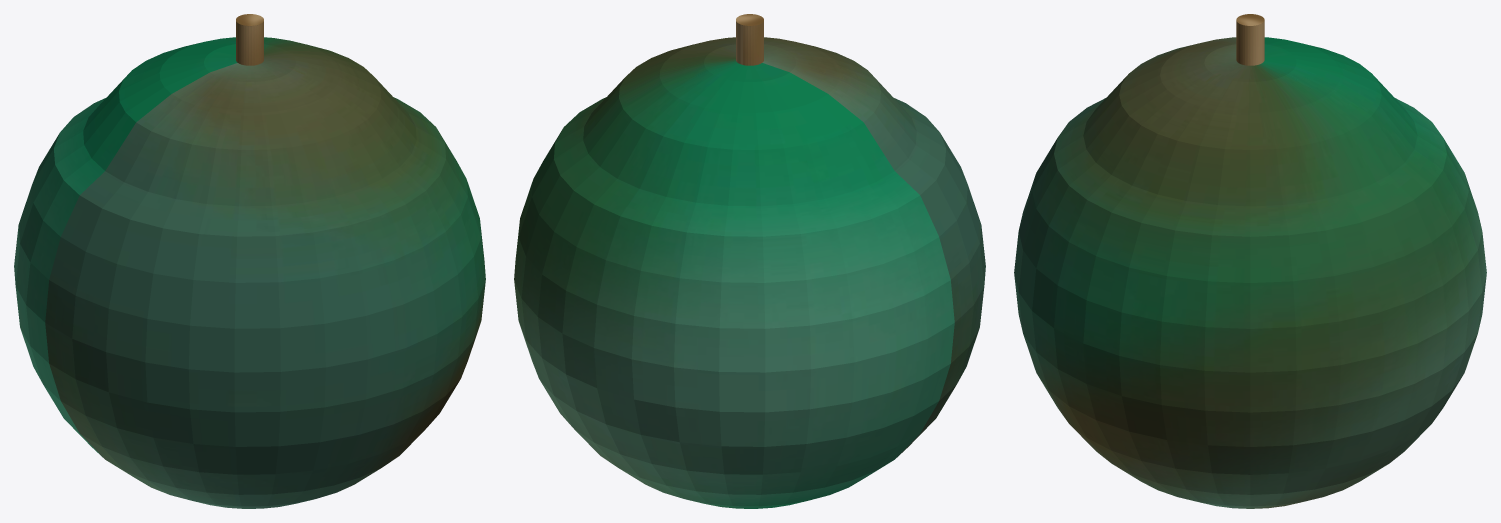
The model's file is tiny cocona.fbx.
3 renders of one model, left to right at view 1: azimuth 30°, elevation 25°; view 2: azimuth 150°, elevation 25°; view 3: azimuth 270°, elevation 25°, orthographic.
Visible parts, largest first — view 1: 球体, 柱体; view 2: 球体, 柱体; view 3: 球体, 柱体.
Boxes of the visible parts, x1=… form: 球体: x1=14, y1=37, x2=485, y2=508; 柱体: x1=236, y1=14, x2=263, y2=65; 球体: x1=514, y1=37, x2=985, y2=508; 柱体: x1=736, y1=14, x2=763, y2=65; 球体: x1=1014, y1=37, x2=1486, y2=508; 柱体: x1=1236, y1=14, x2=1264, y2=65.
Bounding box in the file's own units: 200 × 218 × 200.
Materials: 2 (2 with a texture image).
